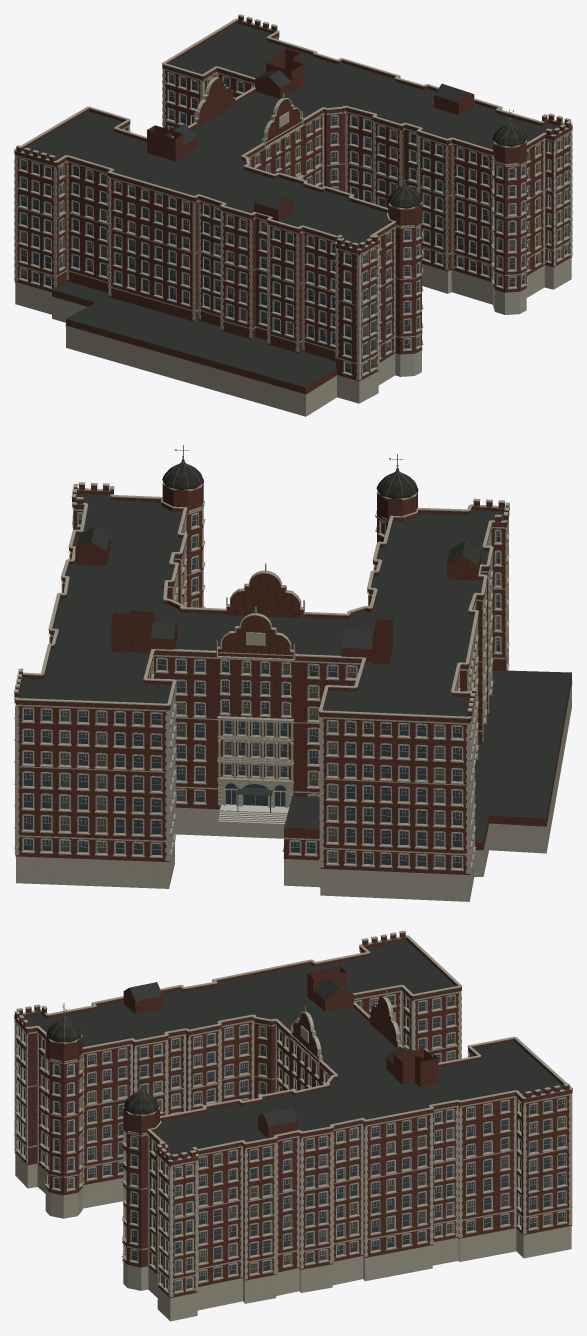
Rendered from maseeh-full.glb.
3 renders of one model, top to bottom at view 1: azimuth 30°, elevation 25°; view 2: azimuth 150°, elevation 25°; view 3: azimuth 270°, elevation 25°, orthographic. The views are drawn at different scales.
Parts seen in each view (by area): view 1: Maseeh exterior brick, Maseeh exterior stone, Maseeh exterior roof, Maseeh exterior glass, Maseeh exterior frame, Maseeh exterior glassShade, Maseeh exterior copper; view 2: Maseeh exterior roof, Maseeh exterior brick, Maseeh exterior stone, Maseeh exterior glass, Maseeh exterior frame, Maseeh exterior glassShade, Maseeh exterior copper, Maseeh entry ground paving; view 3: Maseeh exterior stone, Maseeh exterior brick, Maseeh exterior roof, Maseeh exterior glass, Maseeh exterior frame, Maseeh exterior glassShade, Maseeh exterior copper.
Part boxes in pixels (x1,y1,x2,y2): Maseeh exterior brick: [14, 16, 572, 394]; Maseeh exterior stone: [14, 14, 572, 416]; Maseeh exterior roof: [22, 23, 559, 387]; Maseeh exterior glass: [21, 77, 567, 372]; Maseeh exterior frame: [21, 74, 567, 373]; Maseeh exterior glassShade: [21, 73, 559, 346]; Maseeh exterior copper: [387, 120, 527, 208]; Maseeh exterior roof: [18, 493, 571, 842]; Maseeh exterior brick: [14, 483, 571, 874]; Maseeh exterior stone: [14, 479, 572, 901]; Maseeh exterior glass: [24, 513, 500, 867]; Maseeh exterior frame: [23, 513, 500, 868]; Maseeh exterior glassShade: [60, 574, 500, 867]; Maseeh exterior copper: [162, 459, 418, 498]; Maseeh entry ground paving: [218, 804, 289, 823]; Maseeh exterior stone: [14, 930, 572, 1321]; Maseeh exterior brick: [14, 932, 572, 1298]; Maseeh exterior roof: [24, 940, 563, 1159]; Maseeh exterior glass: [19, 995, 564, 1288]; Maseeh exterior frame: [18, 995, 564, 1291]; Maseeh exterior glassShade: [19, 998, 564, 1290]; Maseeh exterior copper: [46, 1016, 158, 1114].
Size of what is drawn, in the model's own units: 82.14 by 34.59 by 84.55.
10 materials, 4 textured.
